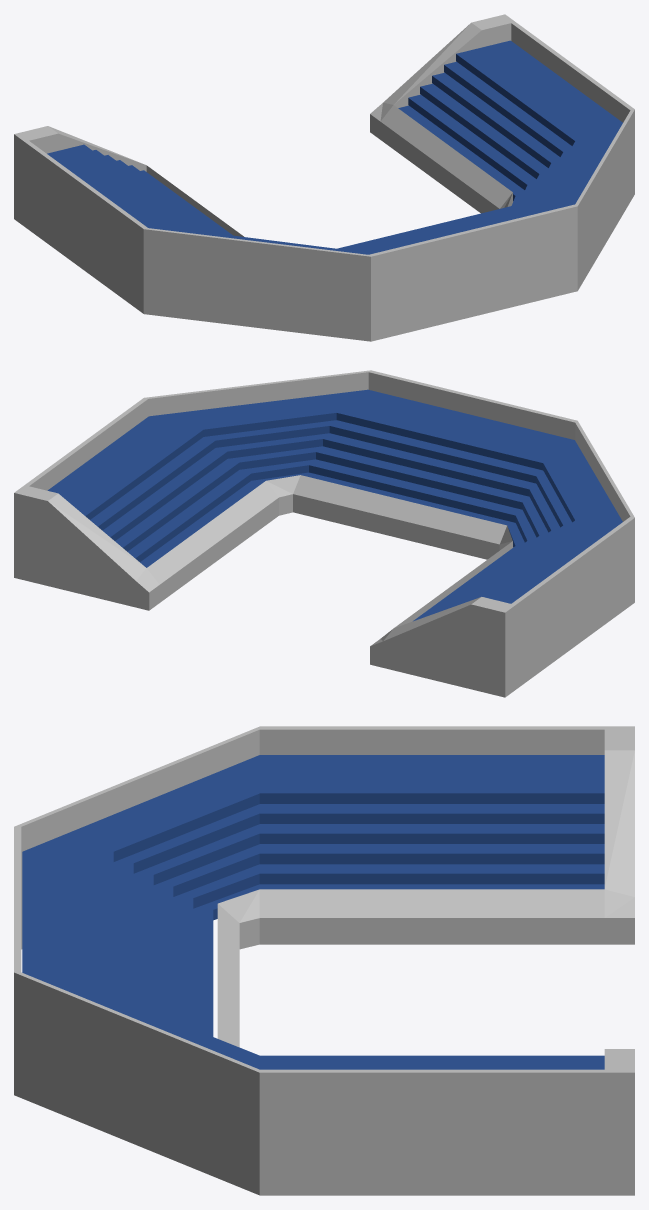
3 renders of one model, top to bottom at view 1: azimuth 30°, elevation 25°; view 2: azimuth 150°, elevation 25°; view 3: azimuth 270°, elevation 25°, orthographic. The views are drawn at different scales.
Parts seen in each view (by area): view 1: StadiumSits3_Cube.001; view 2: StadiumSits3_Cube.001; view 3: StadiumSits3_Cube.001.
Boxes of the visible parts, <box> form: StadiumSits3_Cube.001: <box>14,14,634,341</box>; StadiumSits3_Cube.001: <box>14,370,634,697</box>; StadiumSits3_Cube.001: <box>14,726,634,1195</box>.
Bounding box in the file's own units: 44.04 × 7.28 × 33.37.
